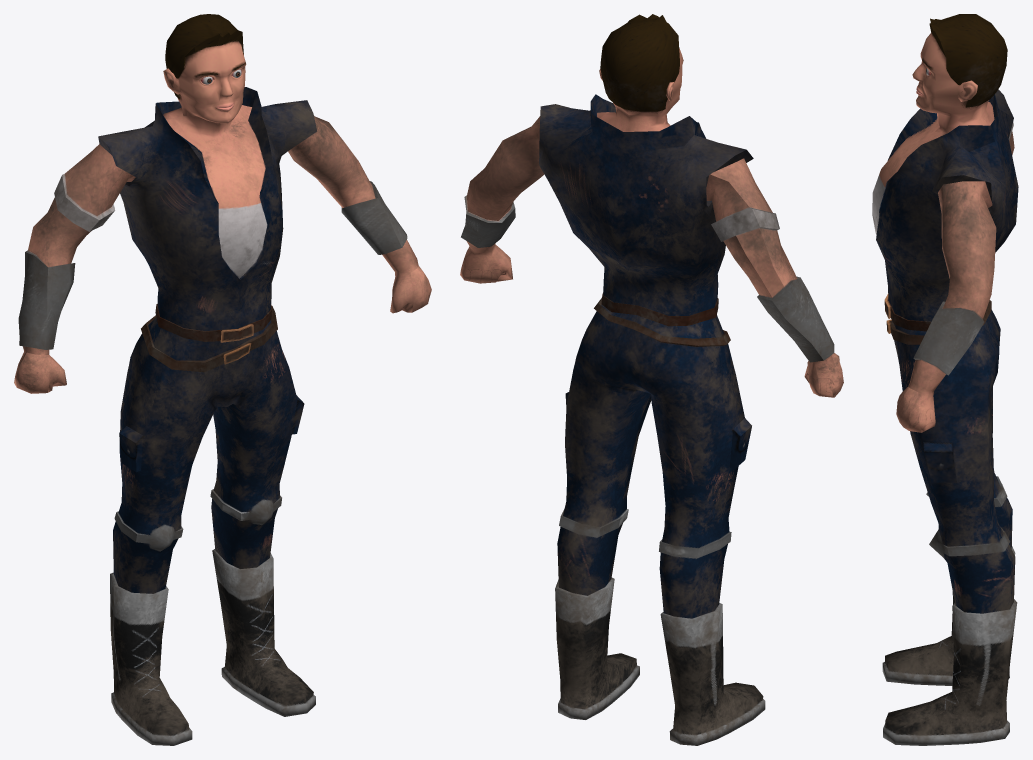
The model's file is Anim_idle_jugador.0025.obj.
3 renders of one model, left to right at view 1: azimuth 30°, elevation 25°; view 2: azimuth 150°, elevation 25°; view 3: azimuth 270°, elevation 25°, orthographic.
Parts seen in each view (by area): view 1: polySurface1; view 2: polySurface1; view 3: polySurface1.
Part boxes in pixels (x1,y1,x2,y2): polySurface1: (14, 14, 431, 745); polySurface1: (460, 14, 843, 745); polySurface1: (872, 14, 1018, 745).
Bounding box in the file's own units: 5.81 × 9.66 × 1.85.
